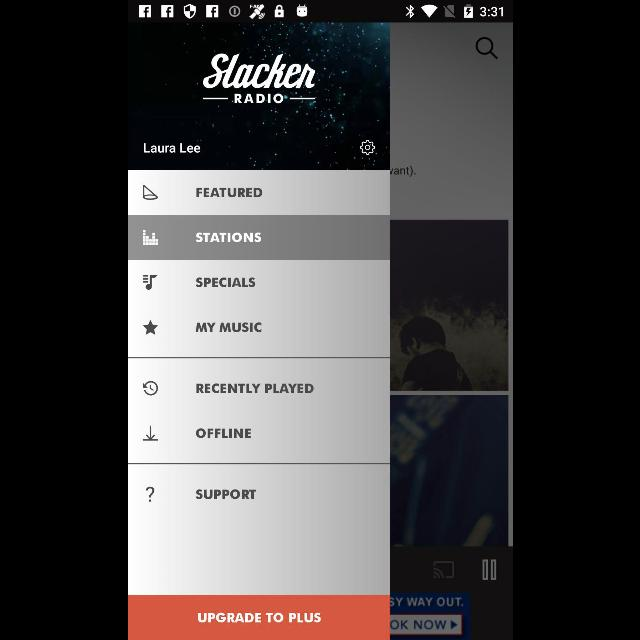icon: (474, 38, 498, 60), (359, 140, 375, 156), (142, 320, 158, 334), (142, 381, 158, 395), (142, 426, 158, 440), (144, 486, 154, 502)
image: (202, 52, 314, 104), (142, 185, 158, 201), (142, 230, 158, 246), (142, 274, 158, 290)
panel: (127, 22, 389, 640)
text: (195, 383, 313, 393), (143, 142, 200, 154), (195, 188, 262, 198), (195, 322, 261, 332), (195, 233, 261, 243), (195, 489, 255, 499), (195, 278, 255, 288), (195, 428, 251, 438)
textbutton: (127, 596, 389, 640)
uppertaskbar: (128, 1, 512, 23)
